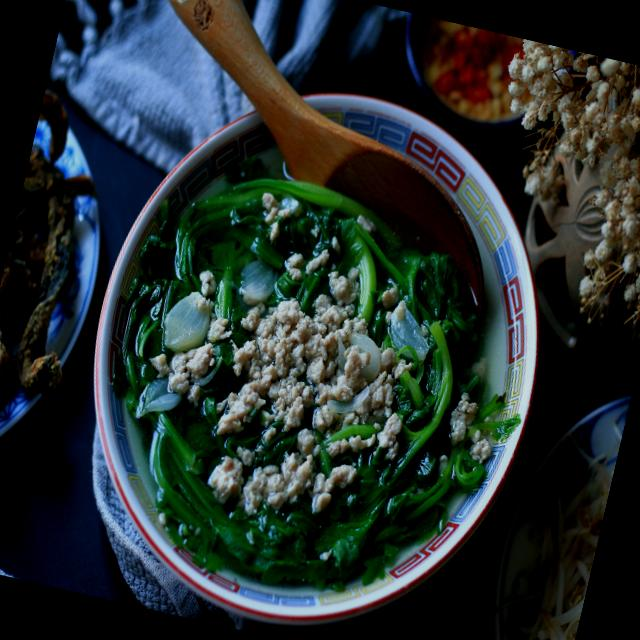canh cai: (125, 179, 497, 569)
